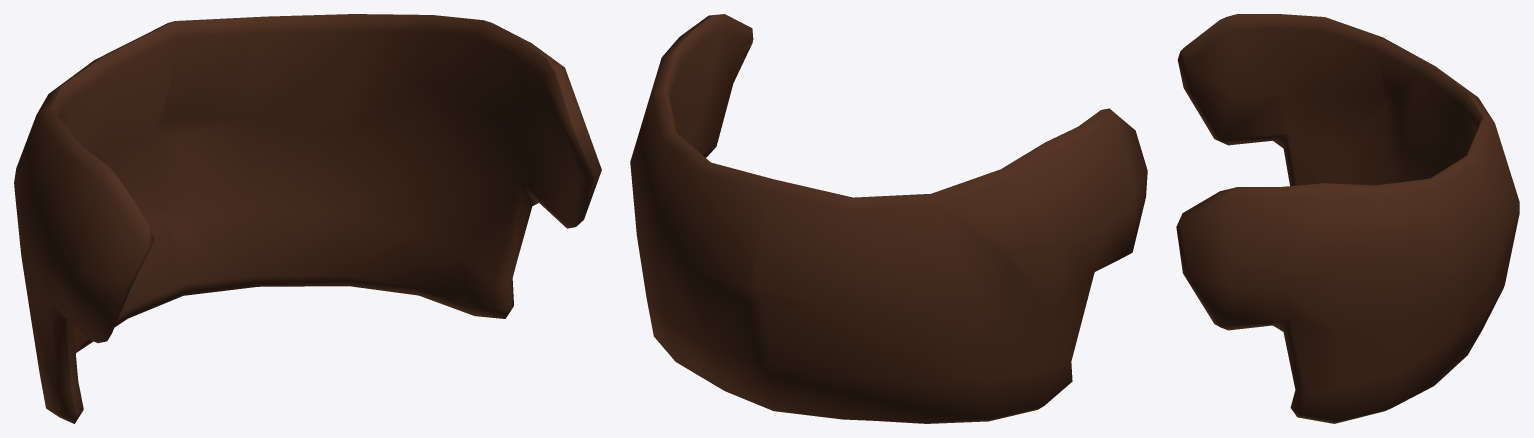
Rendered from aa-hair-short-bald.glb.
3 views of the same model, side by side, from view 1: azimuth 30°, elevation 25°; view 2: azimuth 150°, elevation 25°; view 3: azimuth 270°, elevation 25° (orthographic). The views are drawn at different scales.
Parts seen in each view (by area): view 1: hairshortBald; view 2: hairshortBald; view 3: hairshortBald.
Boxes of the visible parts, <box> form: hairshortBald: <box>14,14,601,423</box>; hairshortBald: <box>630,14,1147,423</box>; hairshortBald: <box>1176,14,1519,423</box>.
Size of the model in its own units: 0.4983 by 0.2805 by 0.3607.
Materials: 1 (1 with a texture image).
